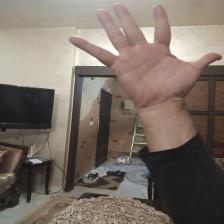five: (67, 3, 222, 108)
